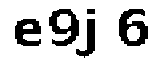6: (112, 5, 149, 47)
9: (47, 7, 81, 46)
e: (11, 17, 43, 49)
j: (81, 7, 103, 60)
